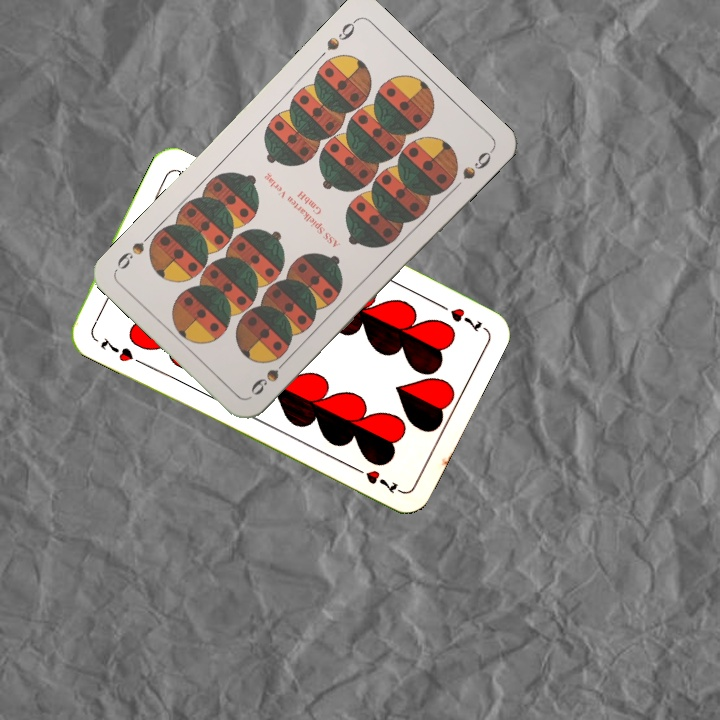H7: (432, 298, 487, 335), (96, 333, 145, 367)
S9: (246, 352, 293, 399), (322, 15, 360, 53)
